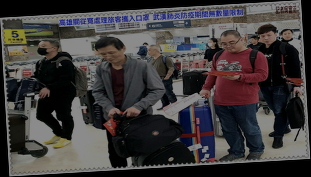with_mask: (36, 42, 52, 57), (206, 40, 214, 48)
without_mask: (99, 49, 122, 64), (220, 38, 241, 53), (259, 32, 276, 46), (282, 31, 294, 40), (146, 48, 156, 58), (250, 38, 256, 44)
